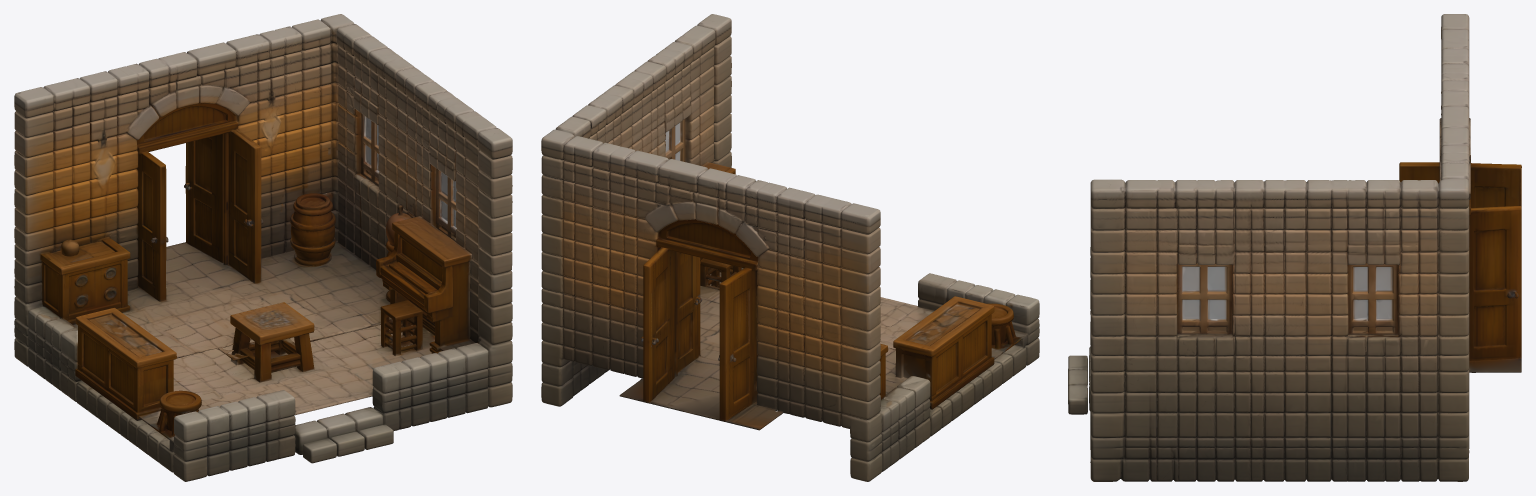
The model's file is tavern.glb.
3 views of the same model, side by side, from view 1: azimuth 30°, elevation 25°; view 2: azimuth 150°, elevation 25°; view 3: azimuth 270°, elevation 25° (orthographic). The views are drawn at different scales.
Parts seen in each view (by area): view 1: texture_pbr_v128; view 2: texture_pbr_v128; view 3: texture_pbr_v128.
Boxes of the visible parts, bbox=[...] form: texture_pbr_v128: bbox=[14, 14, 512, 481]; texture_pbr_v128: bbox=[541, 14, 1039, 481]; texture_pbr_v128: bbox=[1068, 14, 1521, 481].
Size of the model in its own units: 0.7582 by 0.5866 by 0.8173.
Materials: 1 (1 with a texture image).
